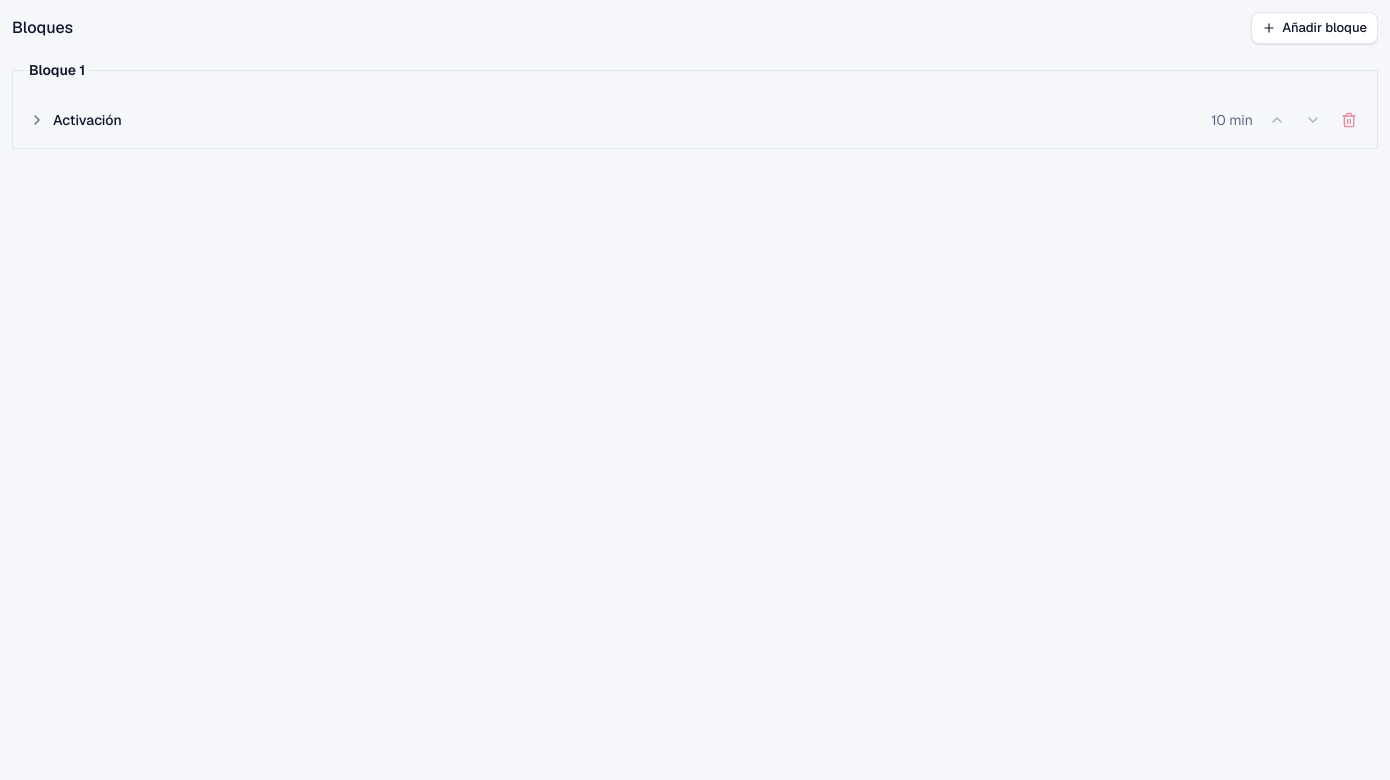
SesionBloquesEditor › al añadir un bloque contrae los anteriores y deja expandido solo el nuevo
Click the button with aria-label "expandir bloque 1": (87, 120) 25,106 -> 1257,134
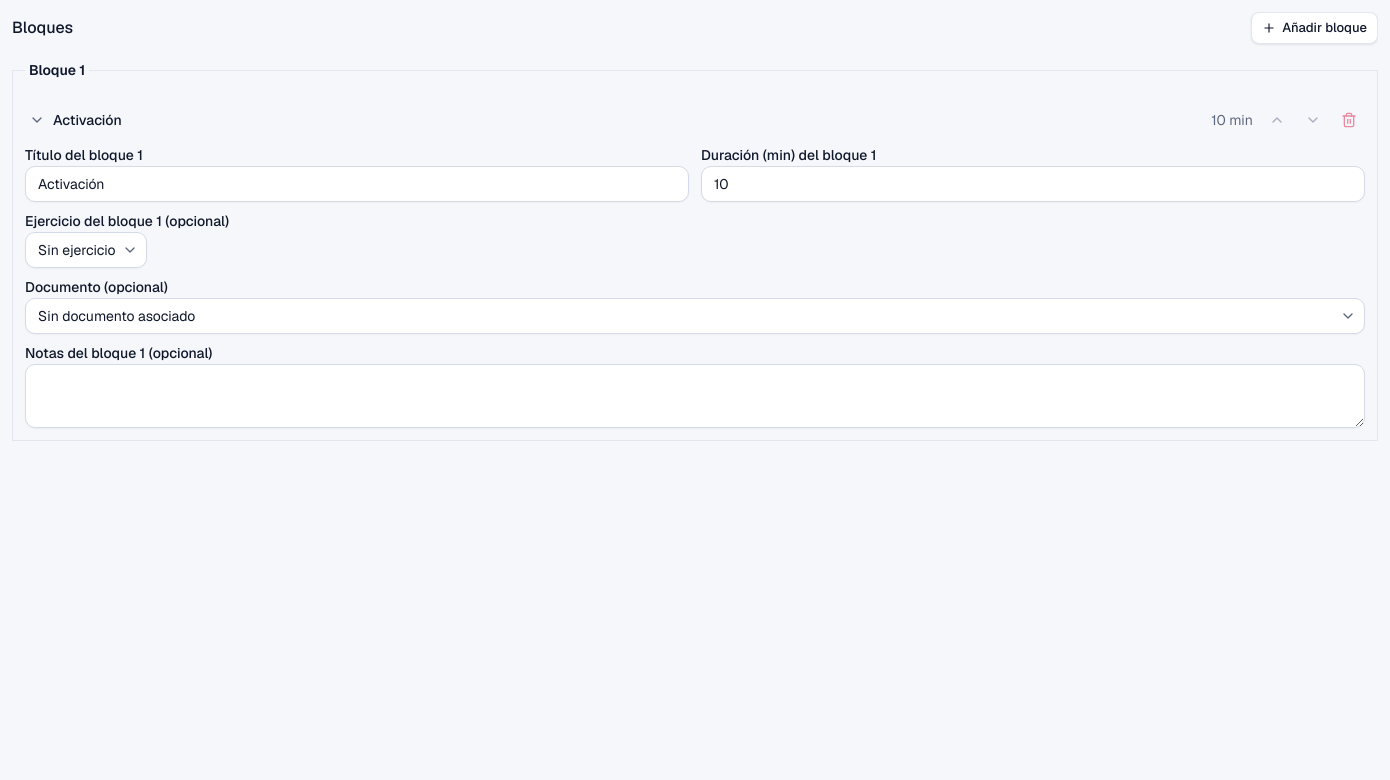
Expected: the field labelled "Título del bloque 1" is shown, 25,166 -> 689,202
Click the button "Añadir bloque": (1315, 28) 1251,12 -> 1378,44
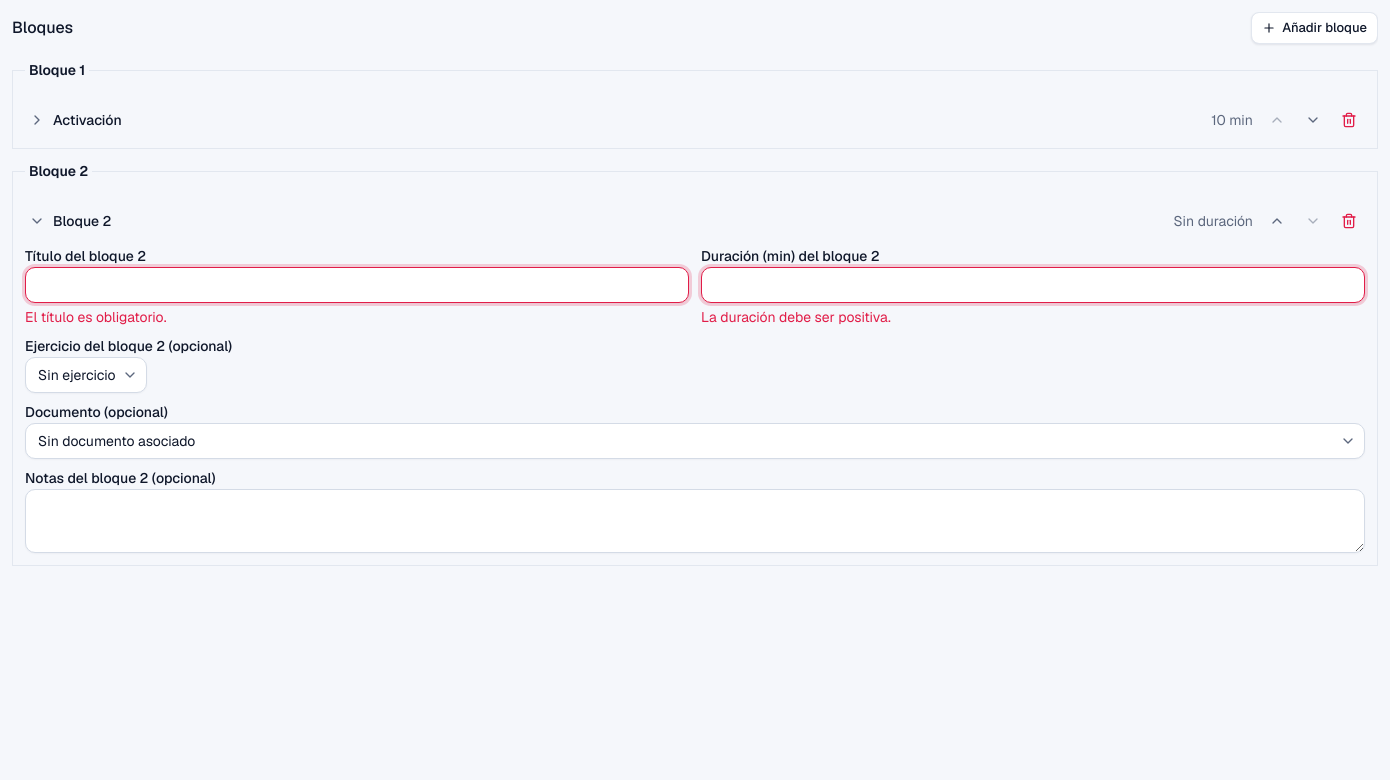
Expected: the label "Título del bloque 1" is gone
Expected: the field labelled "Título del bloque 2" is shown, 25,267 -> 689,303
